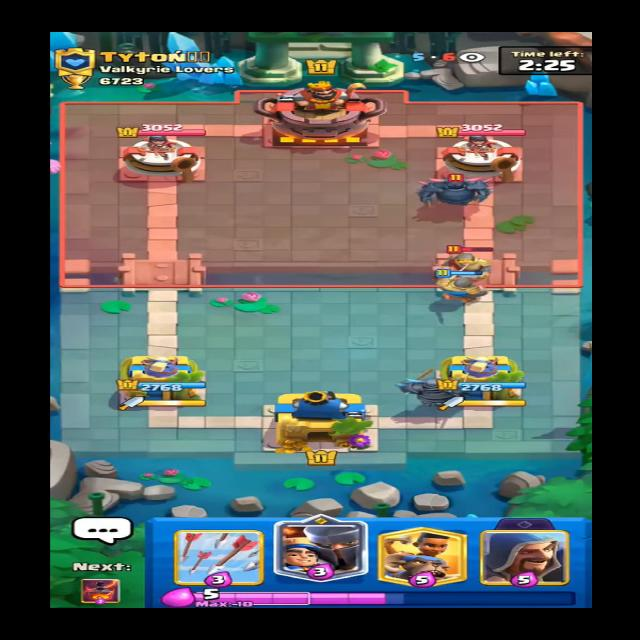knight: (436, 244, 510, 280)
pekka: (417, 165, 499, 205)
